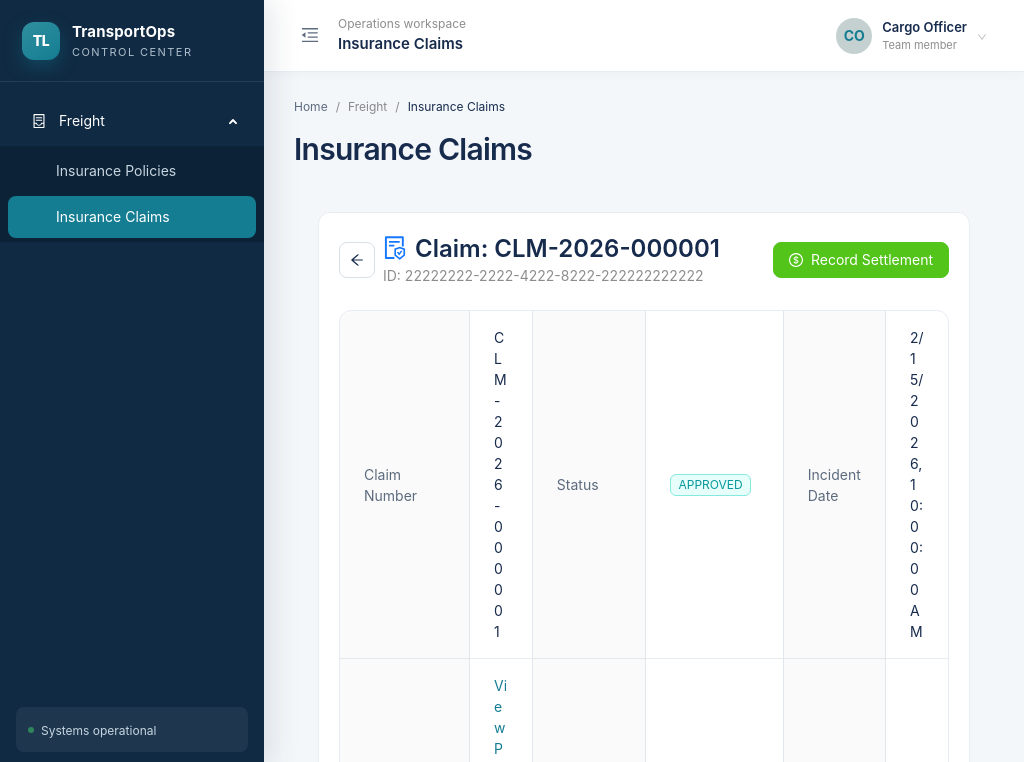
Test: Freight Insurance Pages › renders claim details with settlement history and settlement action
This screenshot has width=1024, height=762.
Expected: the heading "Claim: CLM-2026-000001" is shown, [383,233,720,265]
Click the button "Record Settlement" at {"x": 861, "y": 260}, box [773,242,949,278]
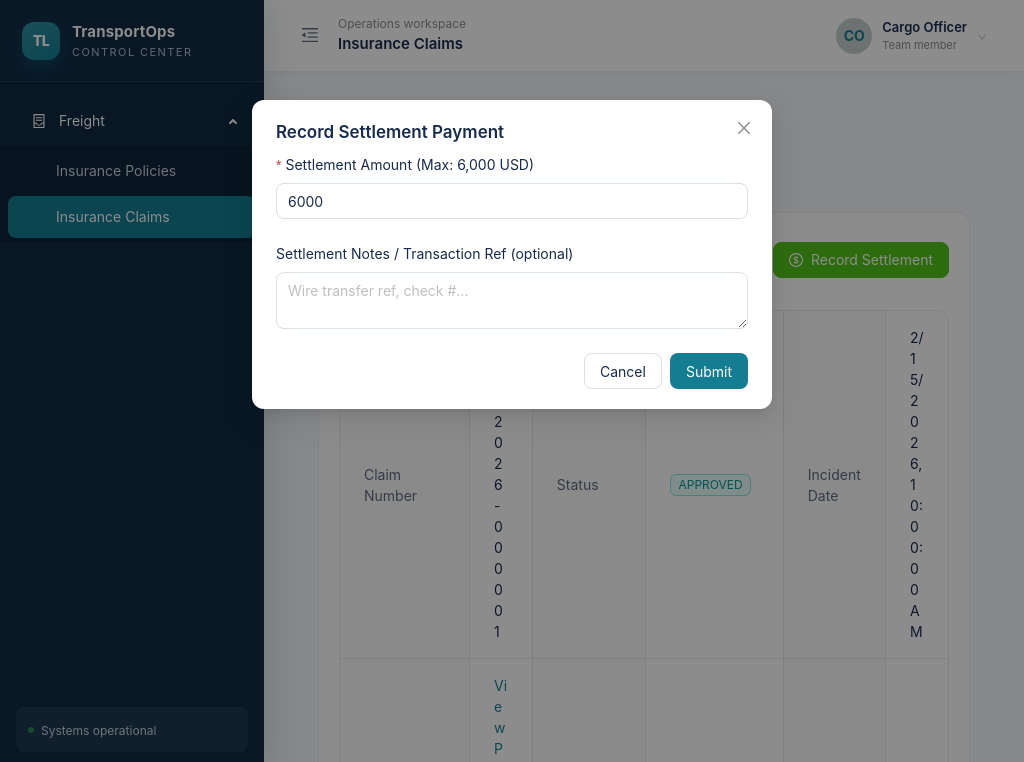
Expected: the text "Record Settlement Payment" is shown, [276,122,504,142]
